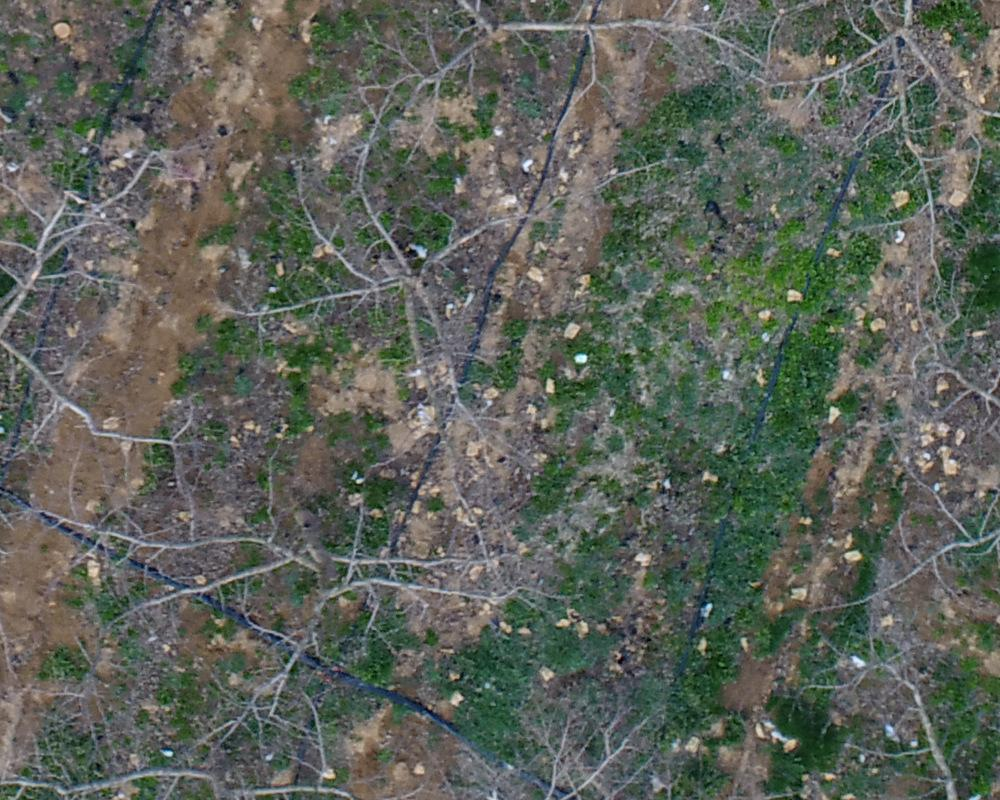apple: (18, 450, 572, 756), (210, 110, 570, 500), (739, 10, 990, 283), (349, 10, 763, 128), (445, 705, 809, 790)
